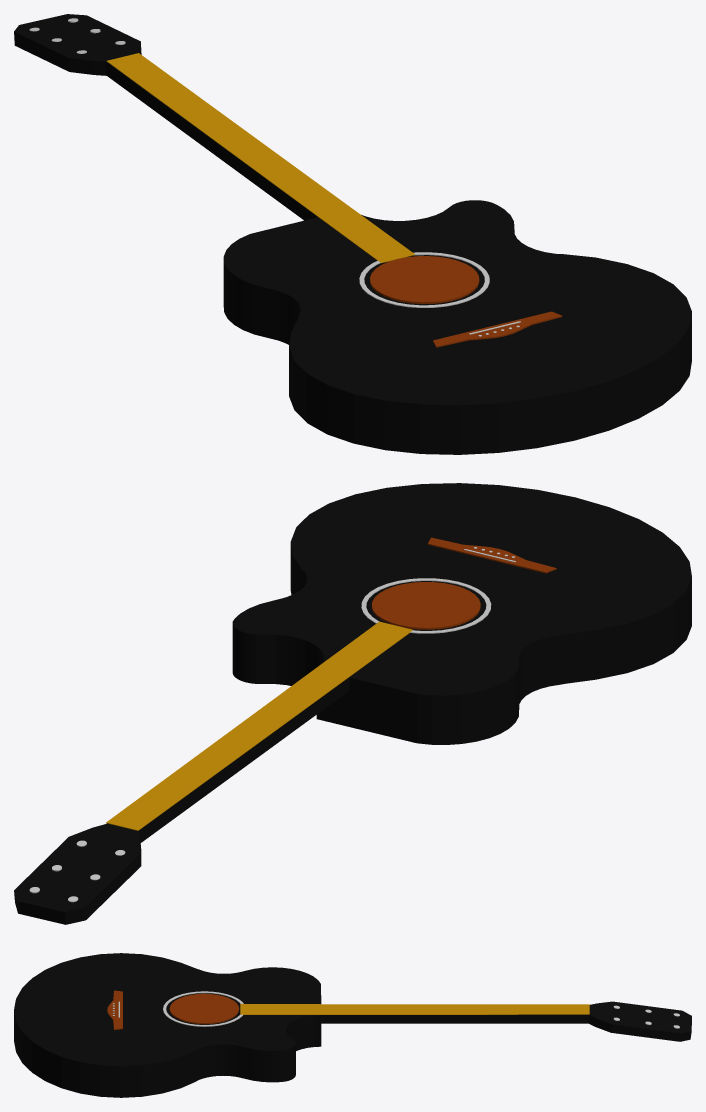
Rendered from Guitar.fbx.
3 renders of one model, top to bottom at view 1: azimuth 30°, elevation 25°; view 2: azimuth 150°, elevation 25°; view 3: azimuth 270°, elevation 25°, orthographic. The views are drawn at different scales.
Visible parts, largest first — view 1: Guitar; view 2: Guitar; view 3: Guitar.
Boxes of the visible parts, <box> form: Guitar: <box>14,14,691,454</box>; Guitar: <box>14,483,691,924</box>; Guitar: <box>14,953,691,1097</box>.
Bounding box in the file's own units: 3860 × 520 × 9760.
